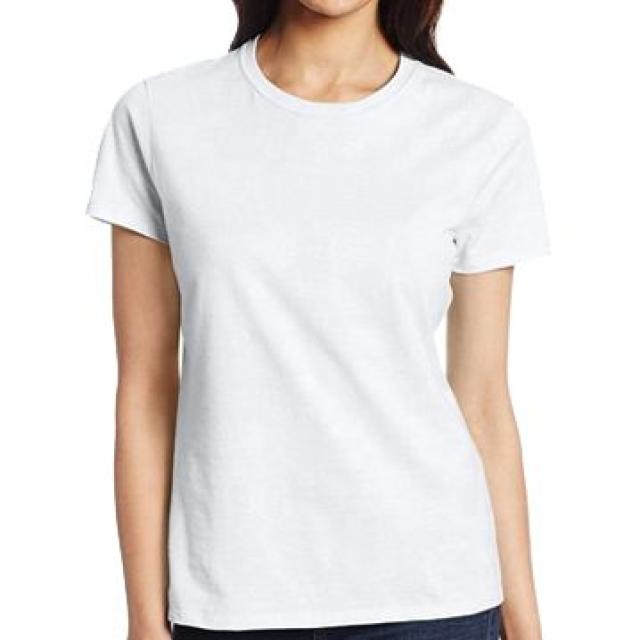Upper-Body: (89, 37, 550, 629)
